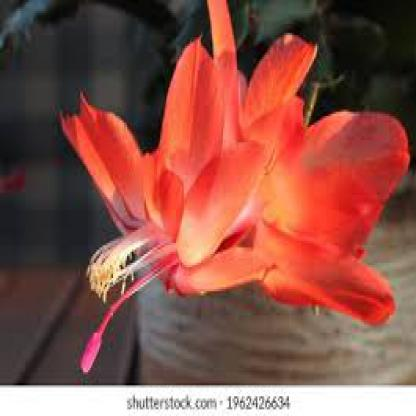Aglonema: (15, 31, 224, 372)
